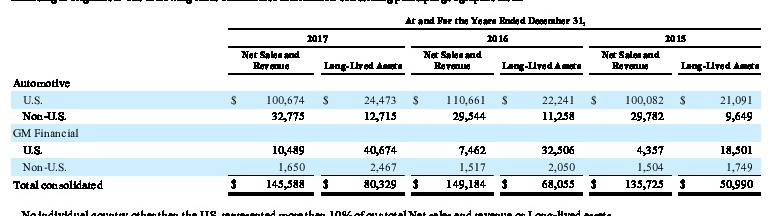table: (0, 0, 775, 216)
